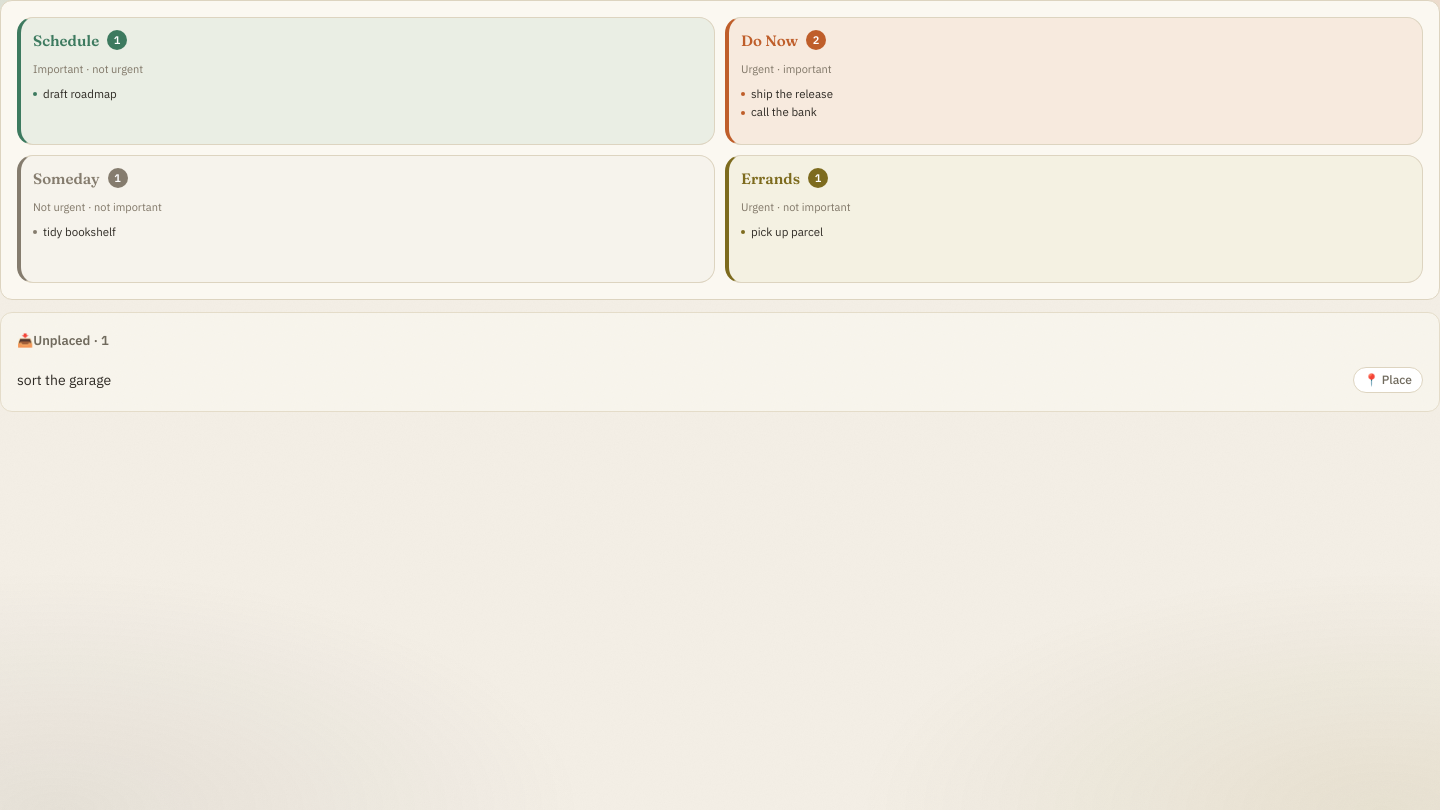
Scenario: MobileMatrix › unplaced strip › Place opens the picker with every quadrant selectable and titled "Place"
The width and height of the screenshot is (1440, 810).
Click the button with aria-label "Place sort the garage" at [1388, 380], box [1353, 367, 1423, 393]
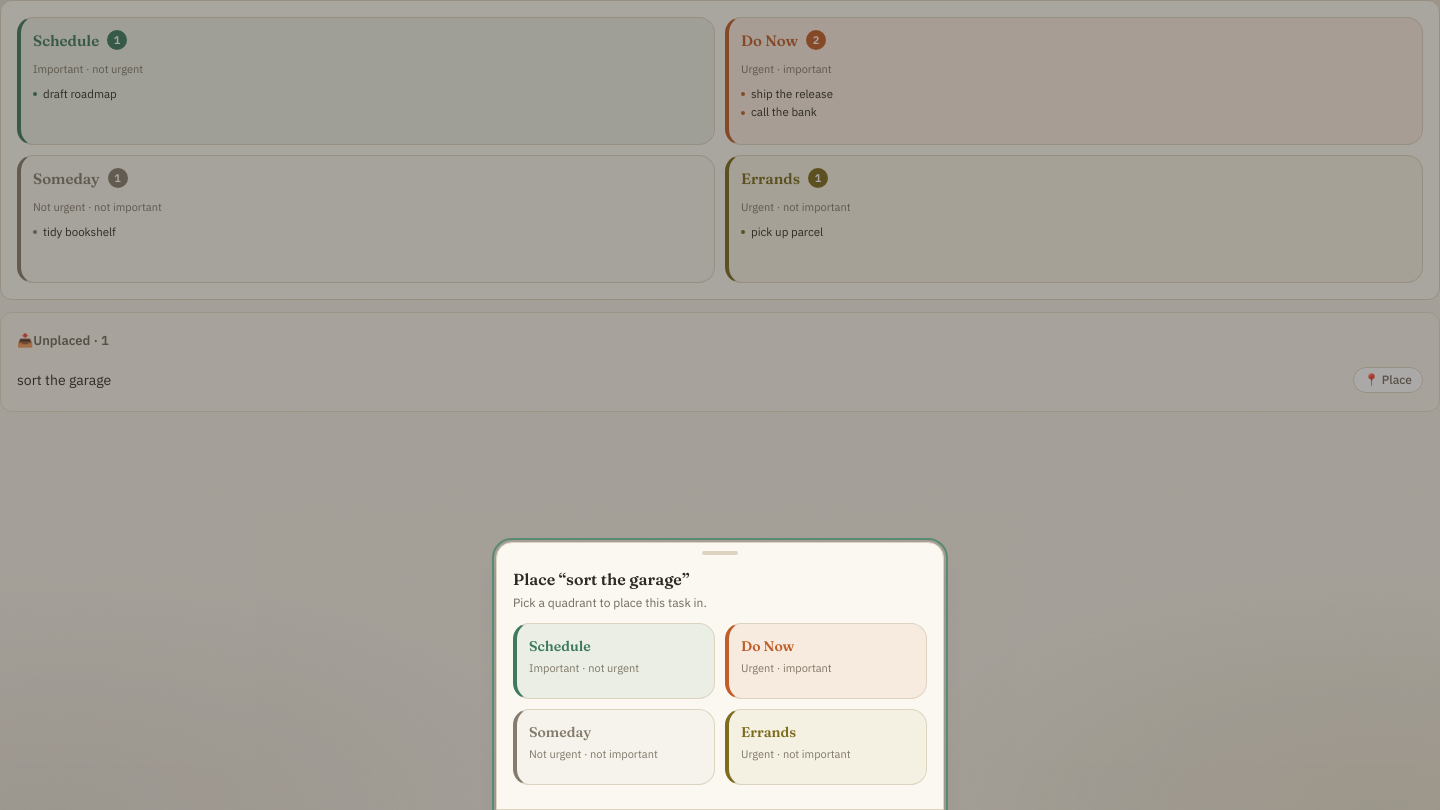
Expected: the button with aria-label "Move to Do Now" is enabled, [725, 623, 927, 699]
Expected: the button with aria-label "Move to Schedule" is enabled, [513, 623, 715, 699]
Expected: the button with aria-label "Move to Errands" is enabled, [725, 709, 927, 785]
